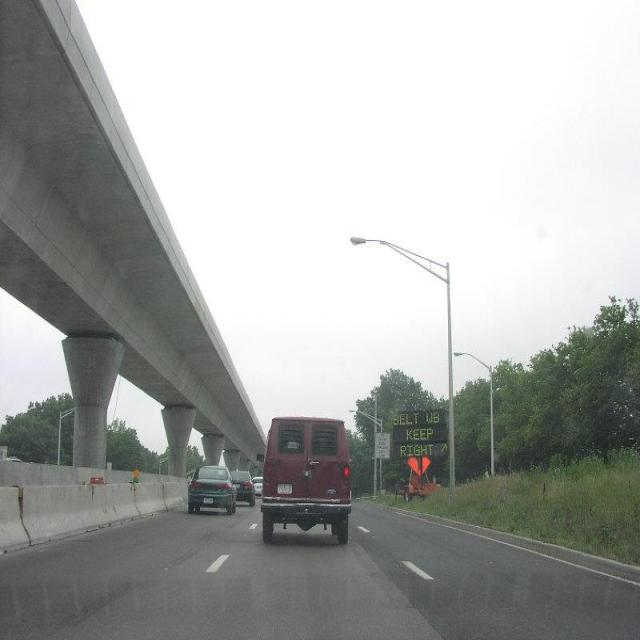Electric pole: (352, 237, 456, 499), (456, 352, 495, 477)
